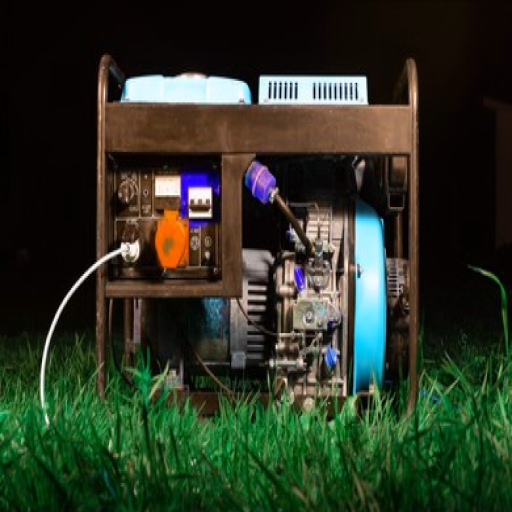portable_generator: (97, 52, 419, 432)
